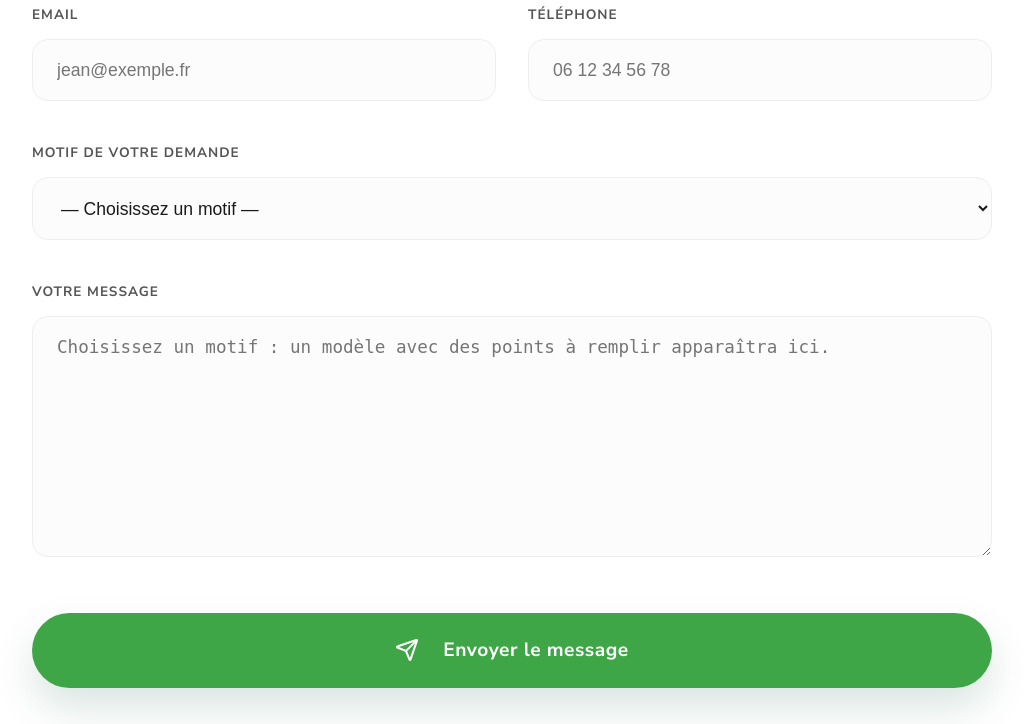
Scenario: Contact › affiche des erreurs de validation pour un envoi invalide
The image size is (1024, 724).
(page scrolled)
Click the button "Envoyer le message".
click(512, 650)  # box [32,613,992,688]
(page scrolled)
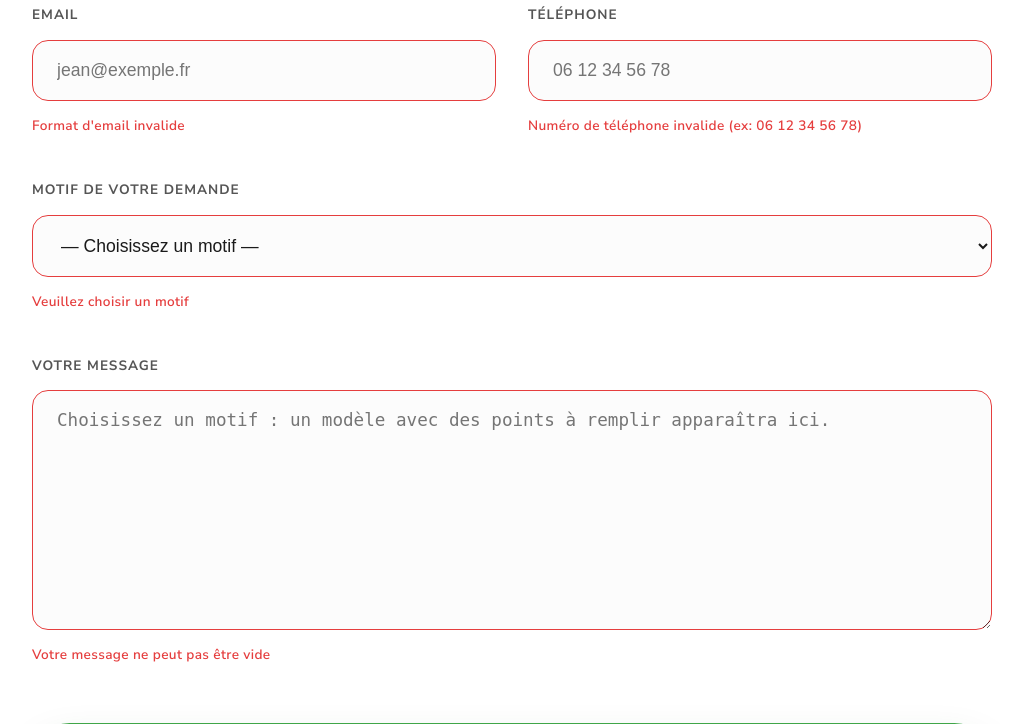
Expected: the text "Format d'email invalide" is shown, [32,116,185,135]
Expected: the text "Veuillez choisir un motif" is shown, [32,292,189,311]
